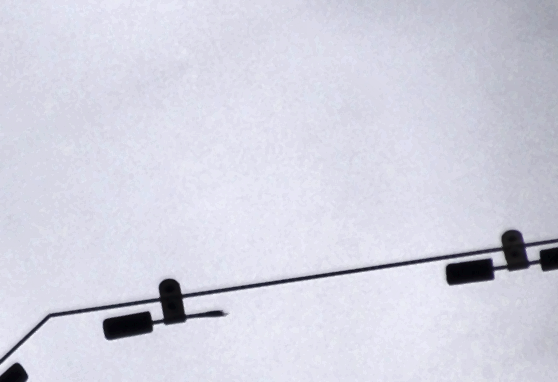damper_defect: (99, 275, 232, 342)
